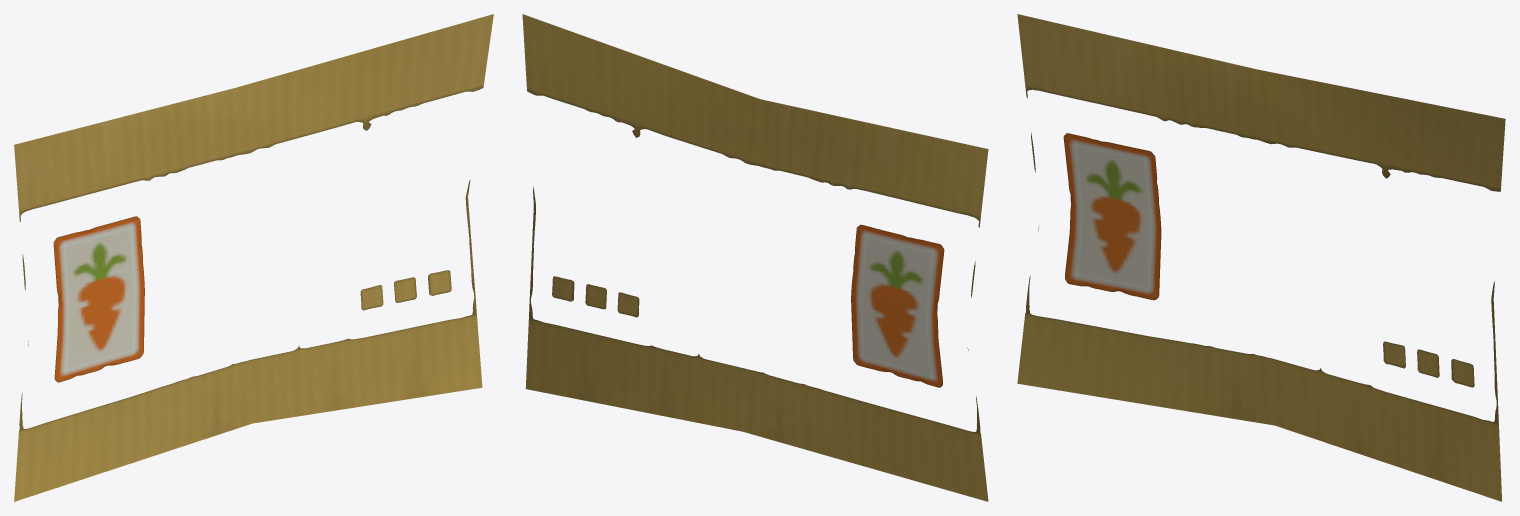
Rendered from p_mesh_carrotbox_part01.fbx.
3 renders of one model, left to right at view 1: azimuth 30°, elevation 25°; view 2: azimuth 150°, elevation 25°; view 3: azimuth 330°, elevation 25°, orthographic. The views are drawn at different scales.
Visible parts, largest first — view 1: p_stackedpaper_paper01.002; view 2: p_stackedpaper_paper01.002; view 3: p_stackedpaper_paper01.002.
Boxes of the visible parts, x1,y1,x2,y2 form: p_stackedpaper_paper01.002: (14, 14, 493, 501); p_stackedpaper_paper01.002: (522, 14, 988, 501); p_stackedpaper_paper01.002: (1017, 14, 1505, 501).
Size of the model in its own units: 4.14 by 3.12 by 0.1368.
